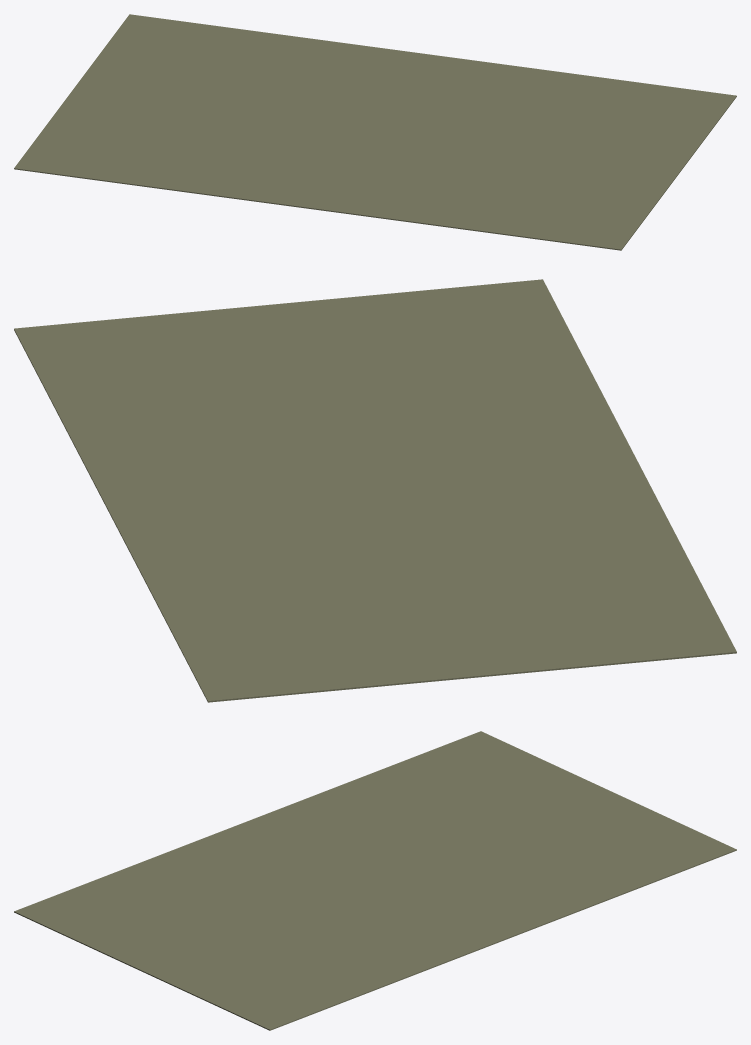
The model's file is Pillow 1.fbx.
3 renders of one model, top to bottom at view 1: azimuth 30°, elevation 25°; view 2: azimuth 150°, elevation 25°; view 3: azimuth 270°, elevation 25°, orthographic. The views are drawn at different scales.
Parts seen in each view (by area): view 1: pillow; view 2: pillow; view 3: pillow.
Part boxes in pixels (box(x1,y1,x2,y2)): pillow: box(14, 14, 736, 250); pillow: box(14, 279, 736, 702); pillow: box(14, 731, 736, 1030).
Bounding box in the file's own units: 35.71 × 0.058 × 36.53.
